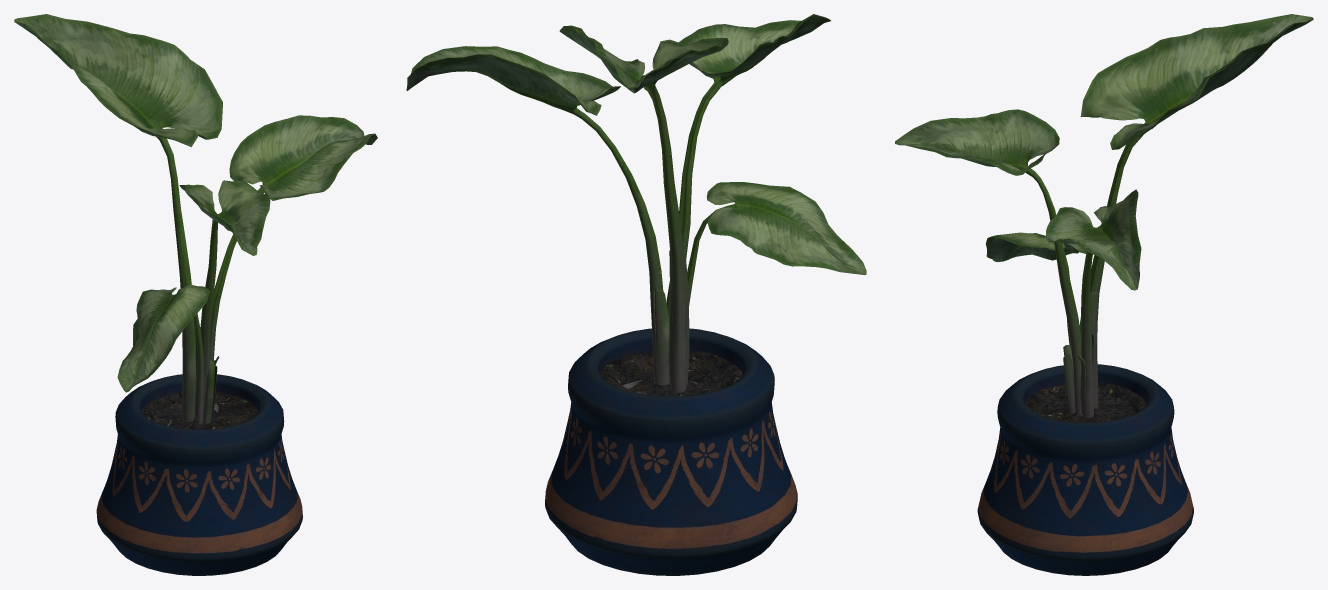
The model's file is skee77f59a.glb.
3 views of the same model, side by side, from view 1: azimuth 30°, elevation 25°; view 2: azimuth 150°, elevation 25°; view 3: azimuth 270°, elevation 25° (orthographic). The views are drawn at different scales.
Parts seen in each view (by area): view 1: Object_3, Object_2; view 2: Object_2, Object_3; view 3: Object_2, Object_3.
Boxes of the visible parts, box(x1,y1,x2,y2) form: Object_3: box(14, 14, 377, 425); Object_2: box(96, 374, 302, 575); Object_2: box(545, 328, 797, 575); Object_3: box(406, 14, 866, 392); Object_2: box(977, 364, 1193, 575); Object_3: box(895, 14, 1313, 422).
Size of the model in its own units: 0.3482 by 0.5 by 0.3875.
1 material, 1 textured.
